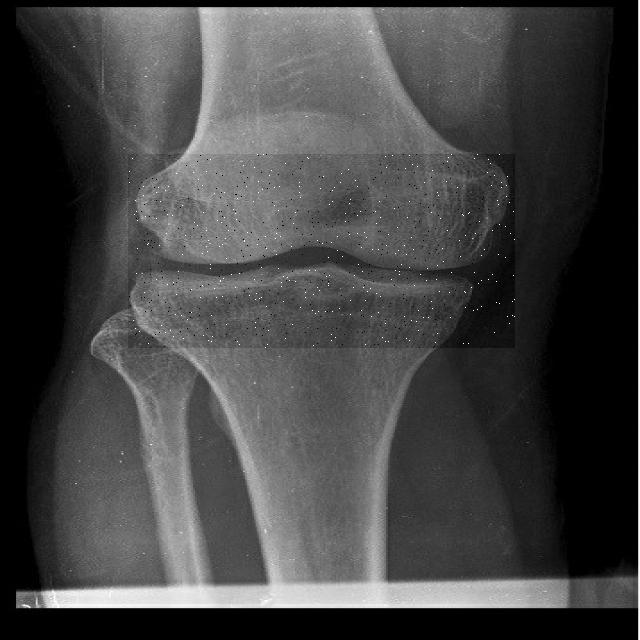osteo: (128, 154, 515, 348)
